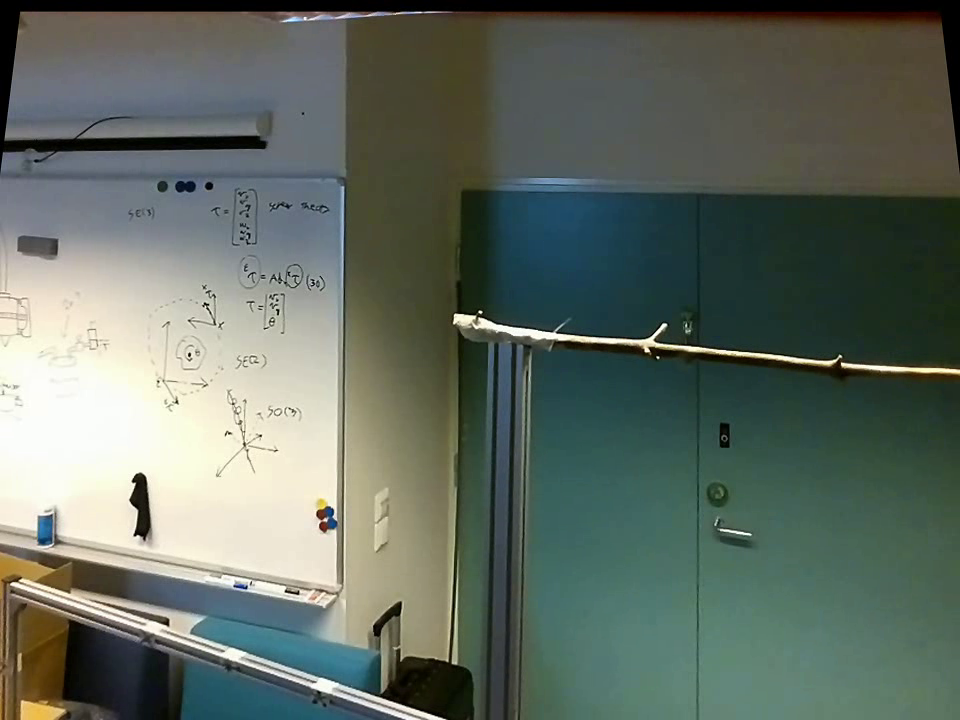aluminum_frame: (11, 564, 413, 718), (3, 519, 351, 609), (473, 340, 527, 715), (330, 170, 351, 599), (2, 165, 347, 190), (2, 571, 28, 717)
branch: (572, 309, 953, 389)
